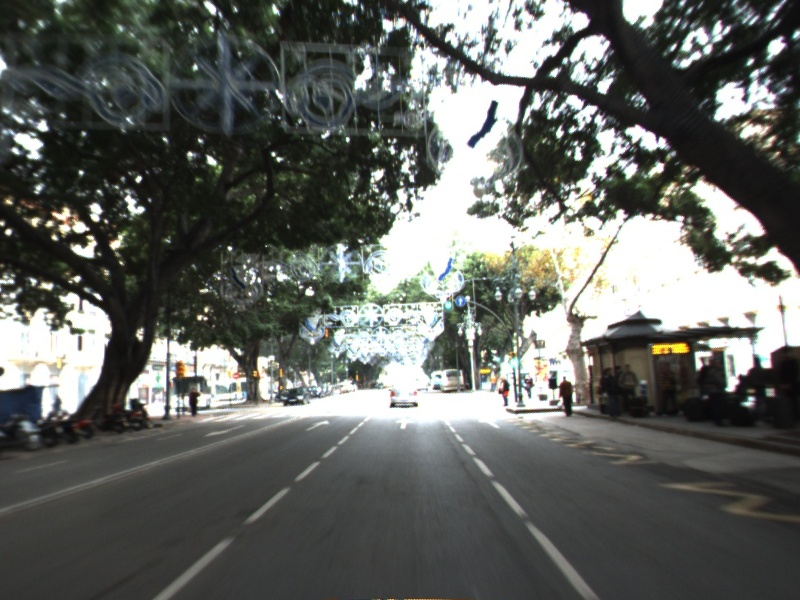STRAIGHT: (302, 418, 332, 433), (392, 416, 419, 431)
